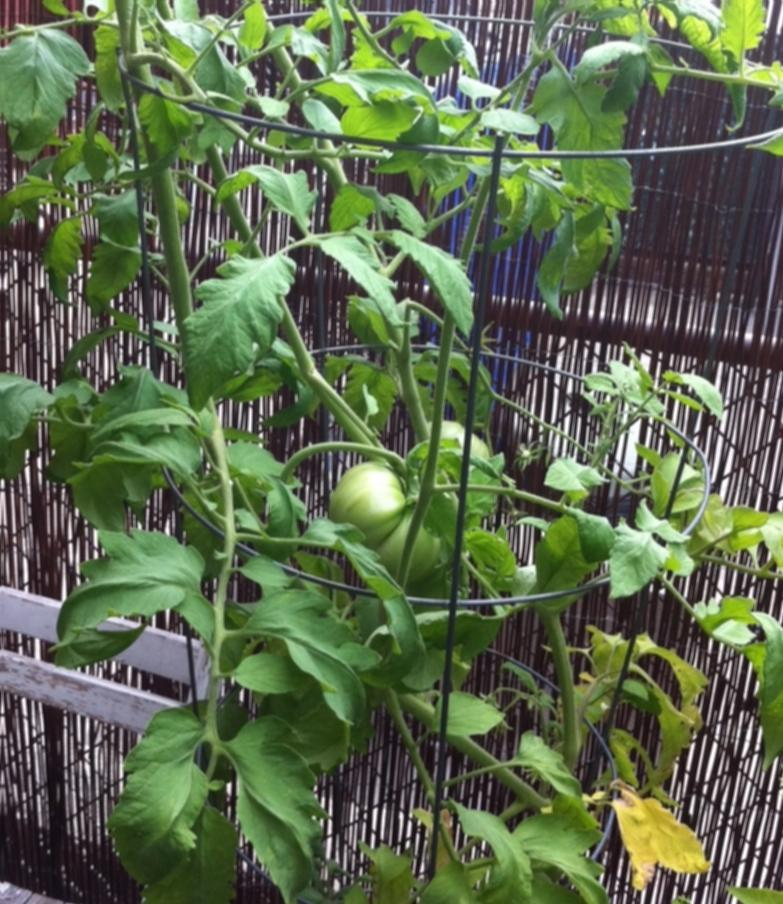Tomato leaf: (175, 238, 307, 393), (545, 67, 649, 223), (0, 25, 99, 186), (371, 220, 475, 340), (113, 754, 207, 886), (58, 542, 198, 629), (232, 738, 326, 837)
